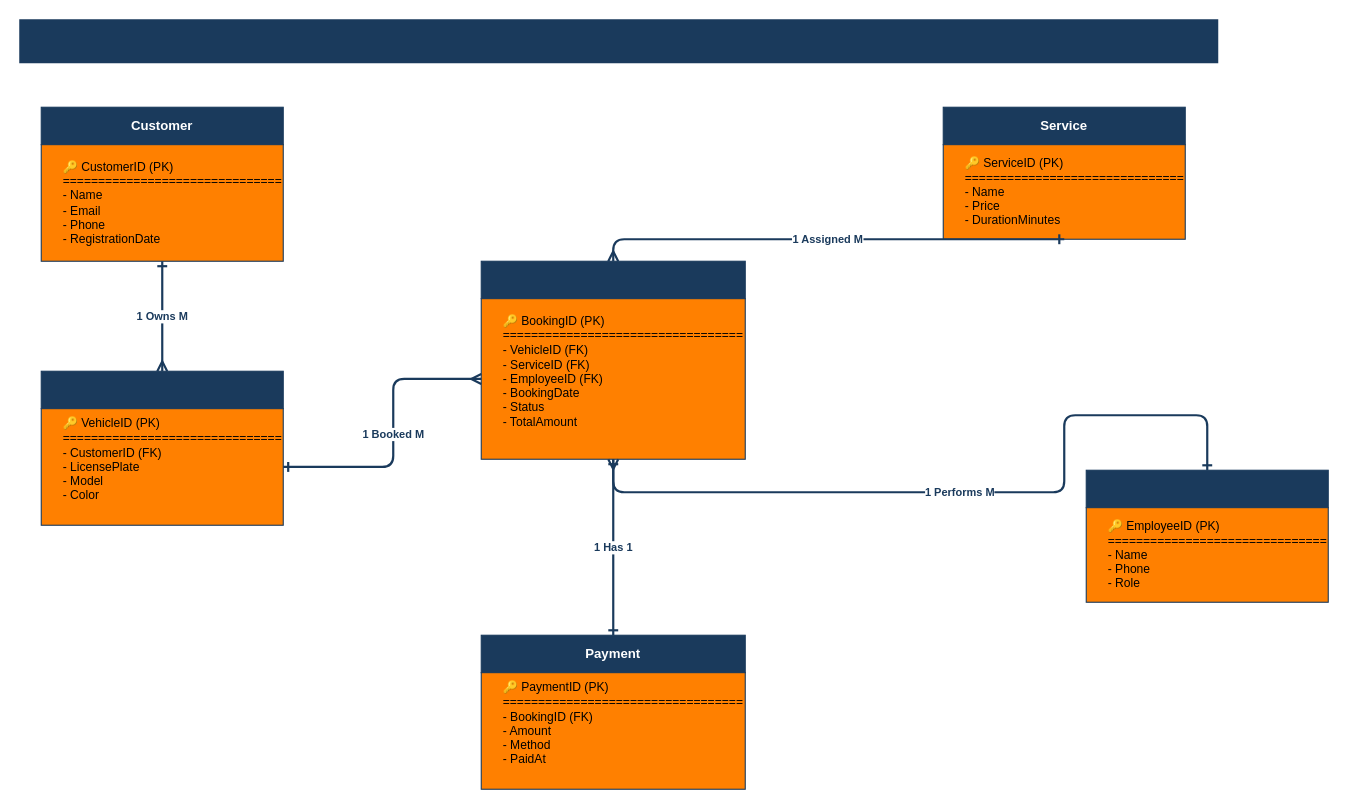
The diagram is 1348 pixels wide and 809 high, and some of its shapes have lost their labels. The shapes that lost their labels are listed below. From the top down, each one's centre as x and y in pixels, then its label:
point 618,41: ENTITY RELATIONSHIP DIAGRAM — CAR WASH MANAGEMENT SYSTEM
point 612,279: Booking
point 161,389: Vehicle
point 1206,488: Employee
